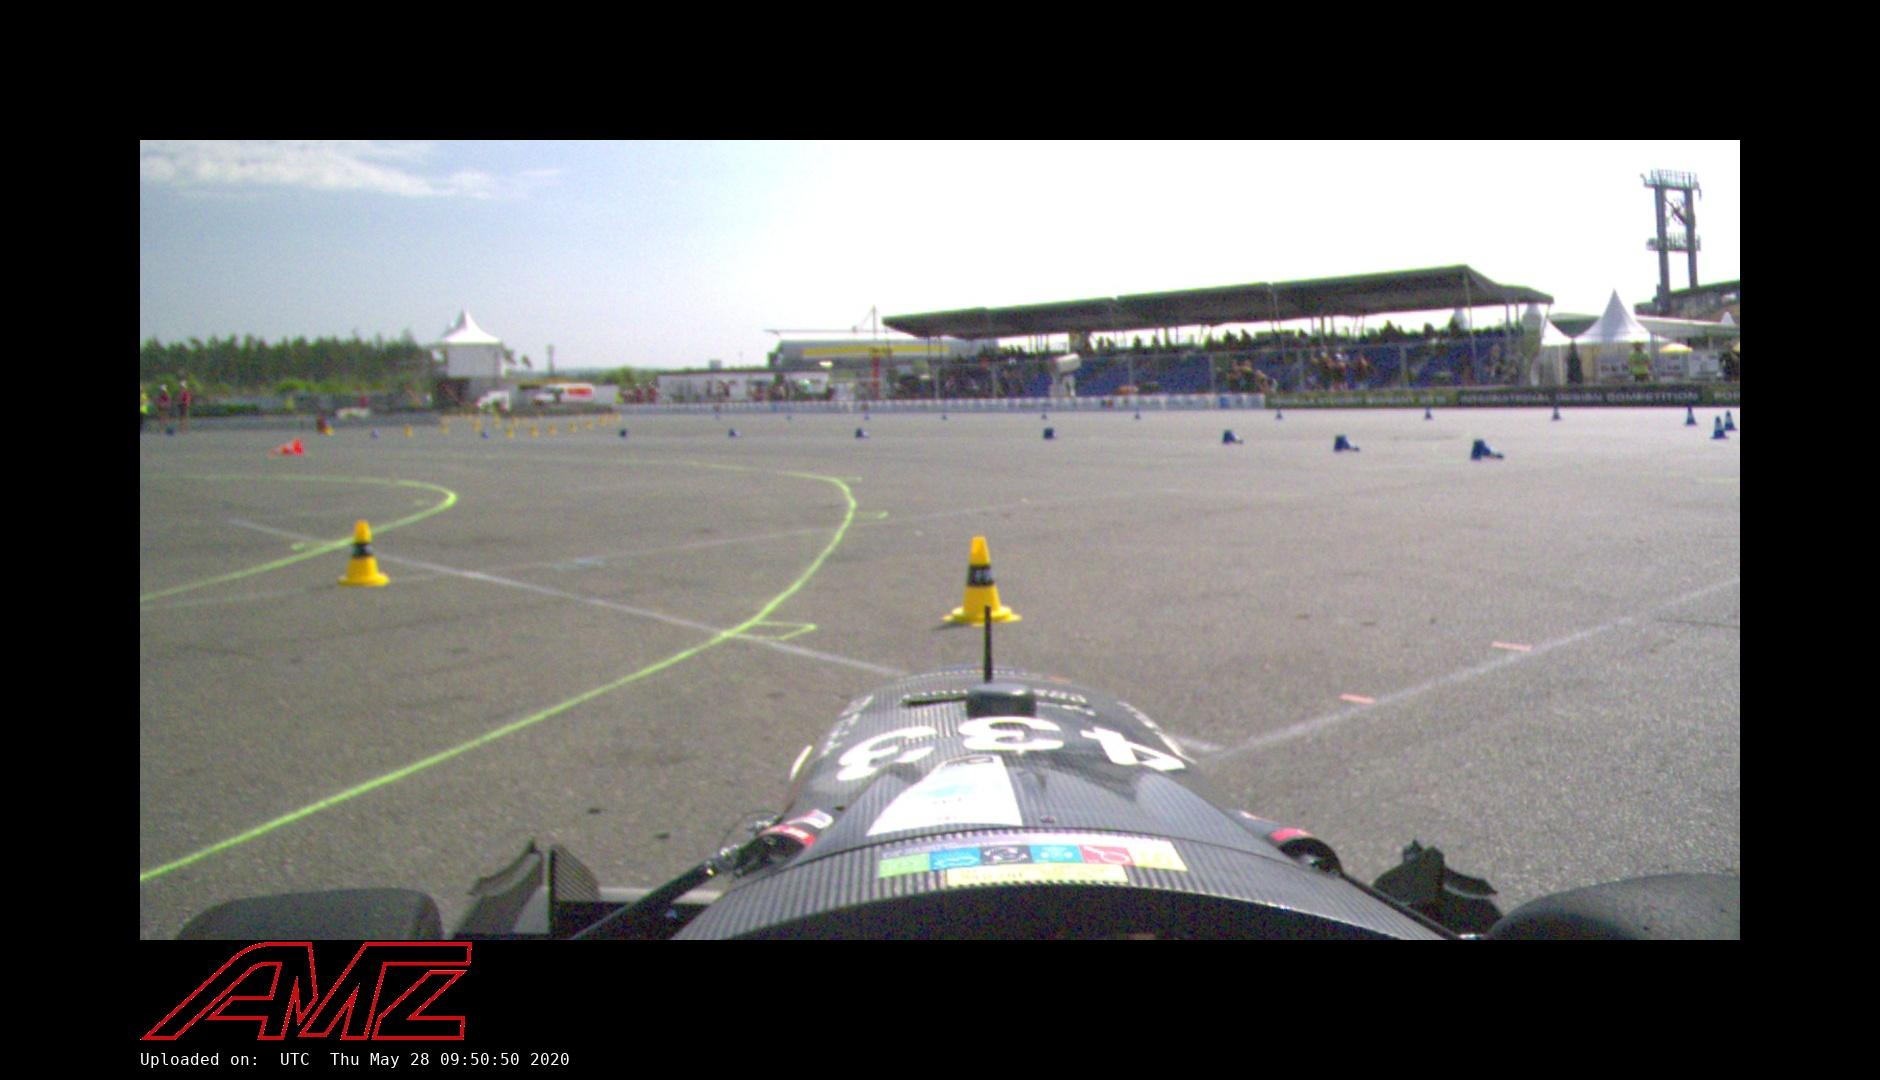blue_cone: (1469, 438, 1504, 459), (1334, 434, 1361, 451), (1711, 416, 1728, 440), (1720, 409, 1737, 430), (1683, 405, 1699, 426), (1222, 430, 1244, 444), (1551, 403, 1563, 420), (1043, 425, 1055, 439), (855, 427, 870, 438), (1423, 405, 1432, 419), (1275, 407, 1283, 419), (729, 428, 741, 436), (619, 427, 628, 437), (1134, 407, 1141, 418), (1041, 408, 1048, 419)
orange_cone: (266, 437, 302, 456)
yellow_cone: (940, 537, 1021, 627), (337, 519, 391, 586)
